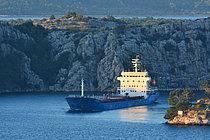Ship: (65, 53, 164, 115)
